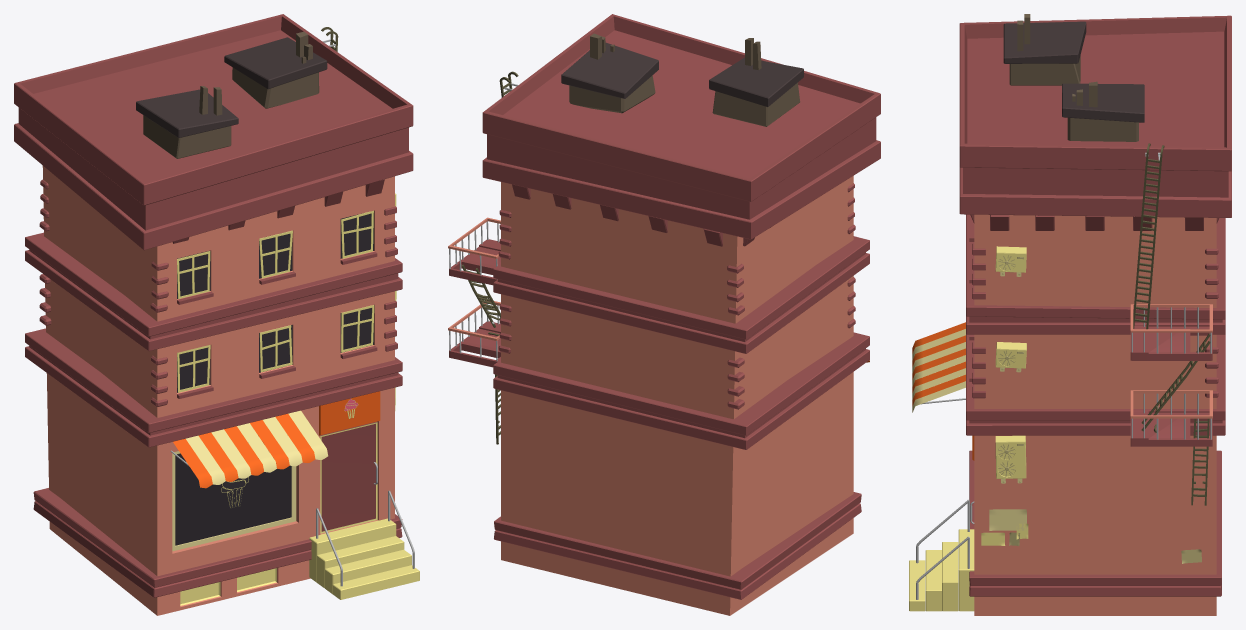
File: Building #12.fbx
3 renders of one model, left to right at view 1: azimuth 30°, elevation 25°; view 2: azimuth 150°, elevation 25°; view 3: azimuth 270°, elevation 25°, orthographic. The views are drawn at different scales.
Parts seen in each view (by area): view 1: polySurface185; view 2: polySurface185; view 3: polySurface185.
Part boxes in pixels (x1,y1,x2,y2): polySurface185: (14, 14, 419, 615); polySurface185: (448, 14, 880, 615); polySurface185: (909, 14, 1231, 615).
Bounding box in the file's own units: 250 × 376 × 213.
